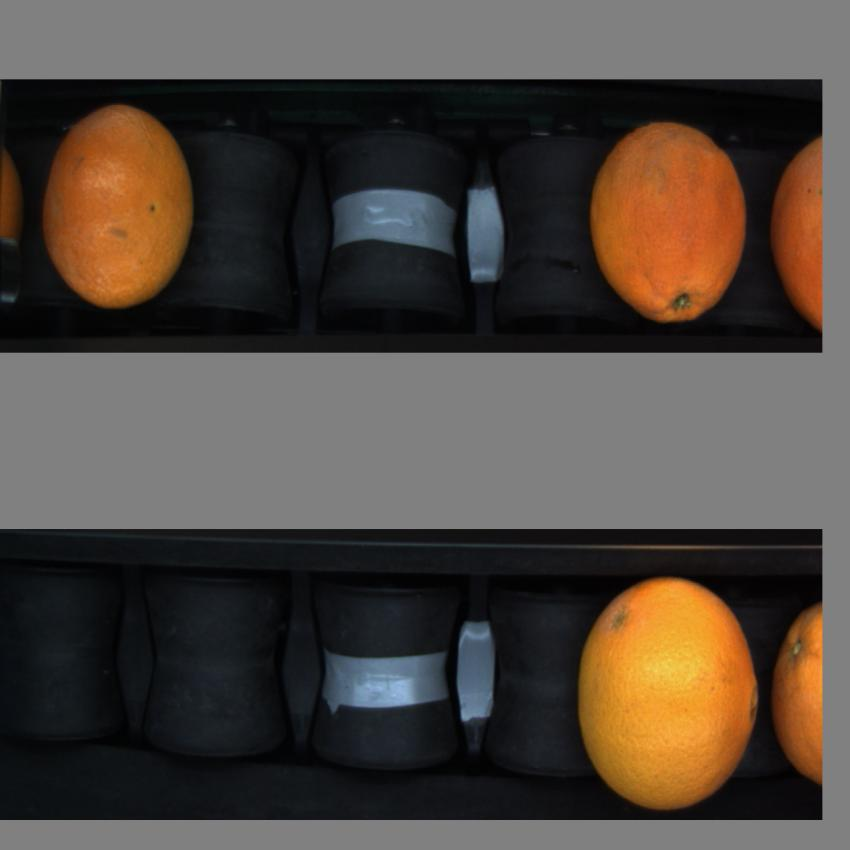Buen estado: (570, 572, 766, 816), (584, 102, 752, 338), (35, 105, 200, 308), (766, 110, 822, 340), (769, 596, 821, 786)
